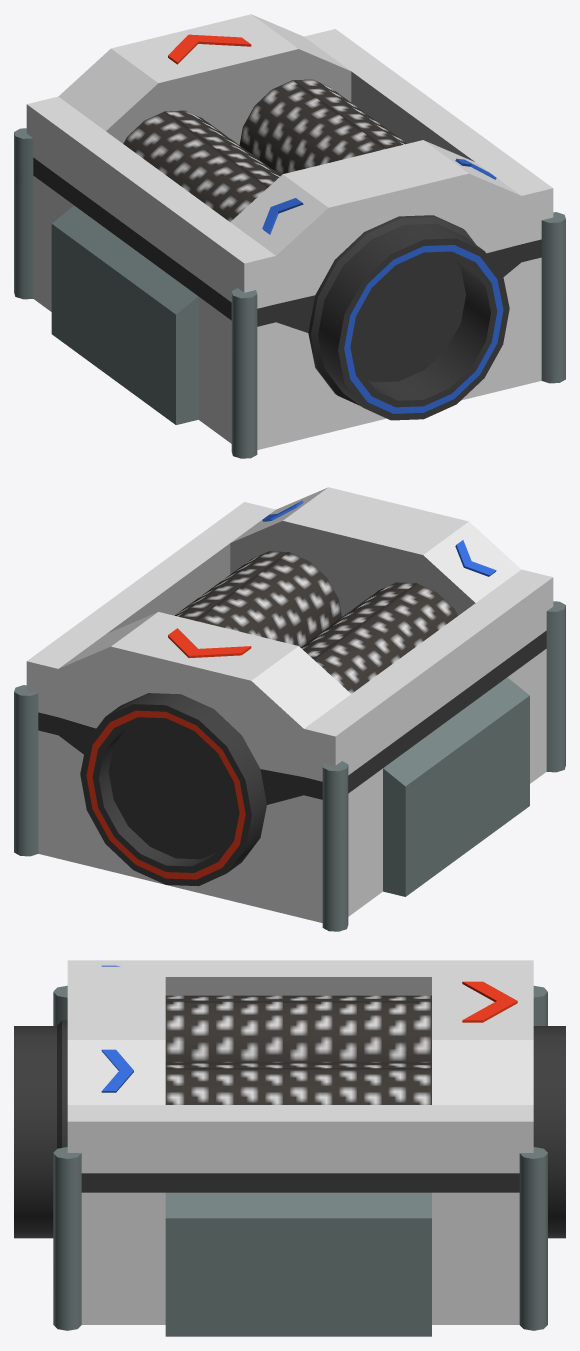
Rendered from m_Crusher.fbx.
3 renders of one model, top to bottom at view 1: azimuth 30°, elevation 25°; view 2: azimuth 150°, elevation 25°; view 3: azimuth 270°, elevation 25°, orthographic. The views are drawn at different scales.
Visible parts, largest first — view 1: Crusher; view 2: Crusher; view 3: Crusher.
Part boxes in pixels (x1,y1,x2,y2): Crusher: [14, 14, 565, 458]; Crusher: [14, 487, 565, 931]; Crusher: [14, 960, 565, 1336].
Size of the model in its own units: 79.26 by 48.63 by 100.
